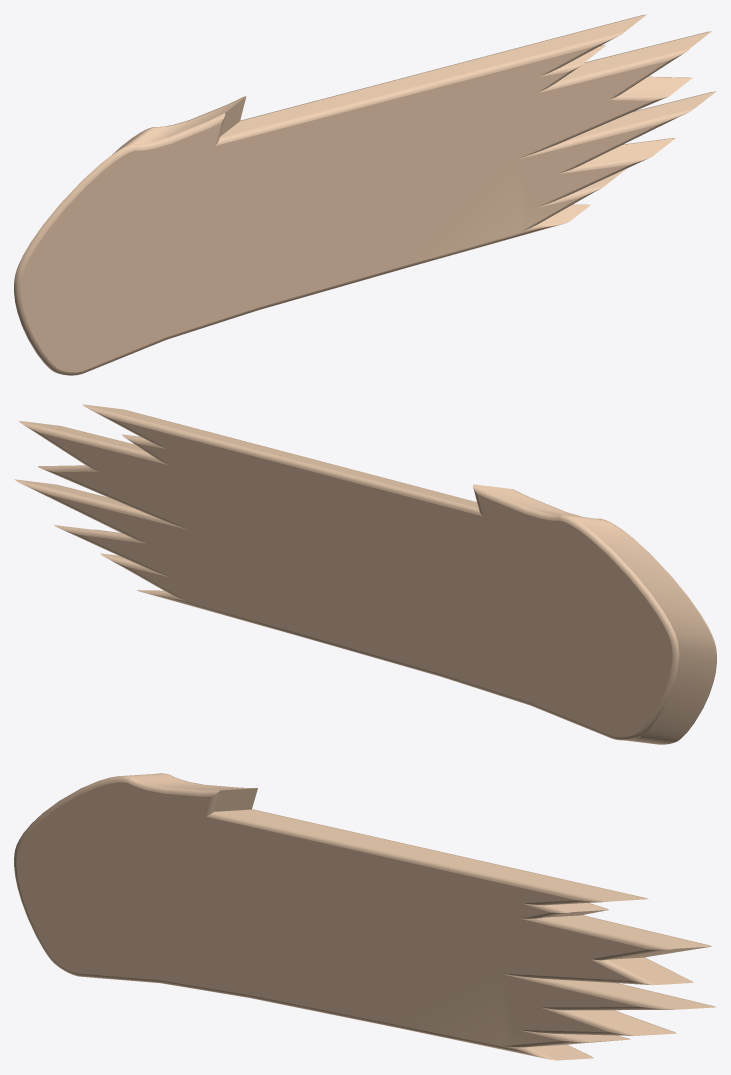
The model's file is cartel.gltf.
The picture shows the model from 3 angles, top to bottom: view 1: azimuth 30°, elevation 25°; view 2: azimuth 150°, elevation 25°; view 3: azimuth 330°, elevation 25°; orthographic projection. The views are drawn at different scales.
Parts seen in each view (by area): view 1: Extrude; view 2: Extrude; view 3: Extrude.
Boxes of the visible parts, x1,y1,x2,y2 form: Extrude: (14,14,716,375); Extrude: (14,404,716,744); Extrude: (14,773,715,1060).
Size of the model in its own units: 1290 by 397 by 41.9.
